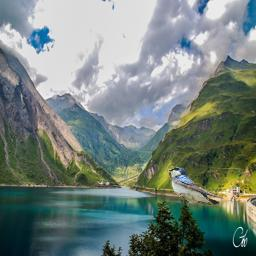Swallow: (168, 167, 224, 209)
